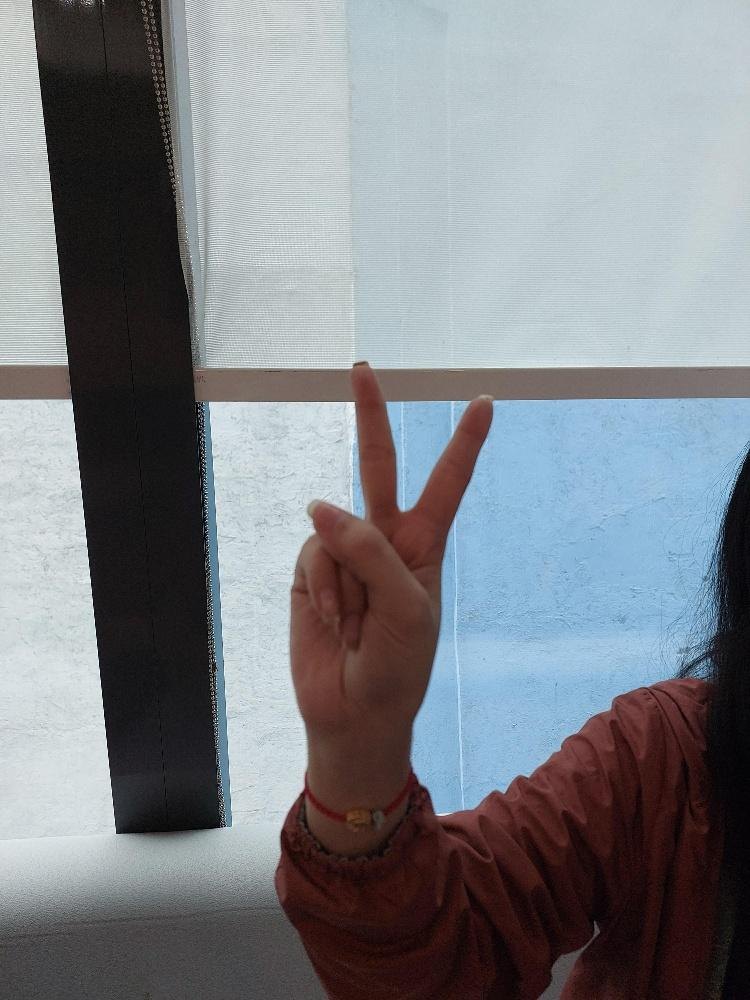v: (286, 356, 496, 739)
